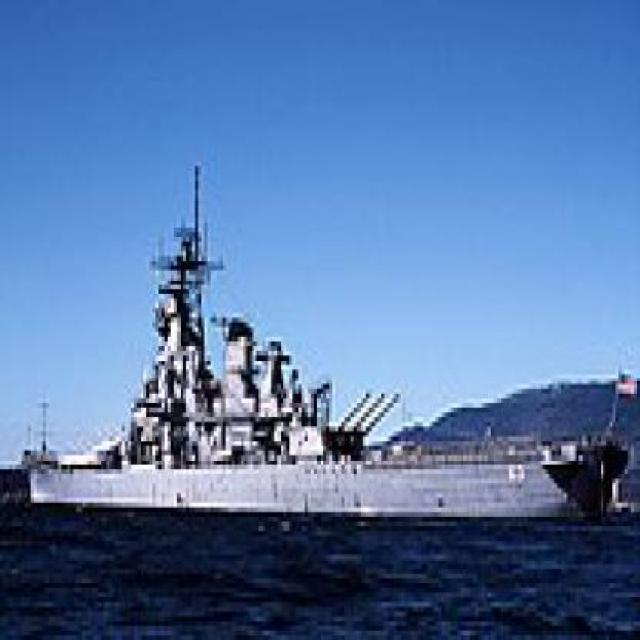warship2: (28, 153, 620, 524)
